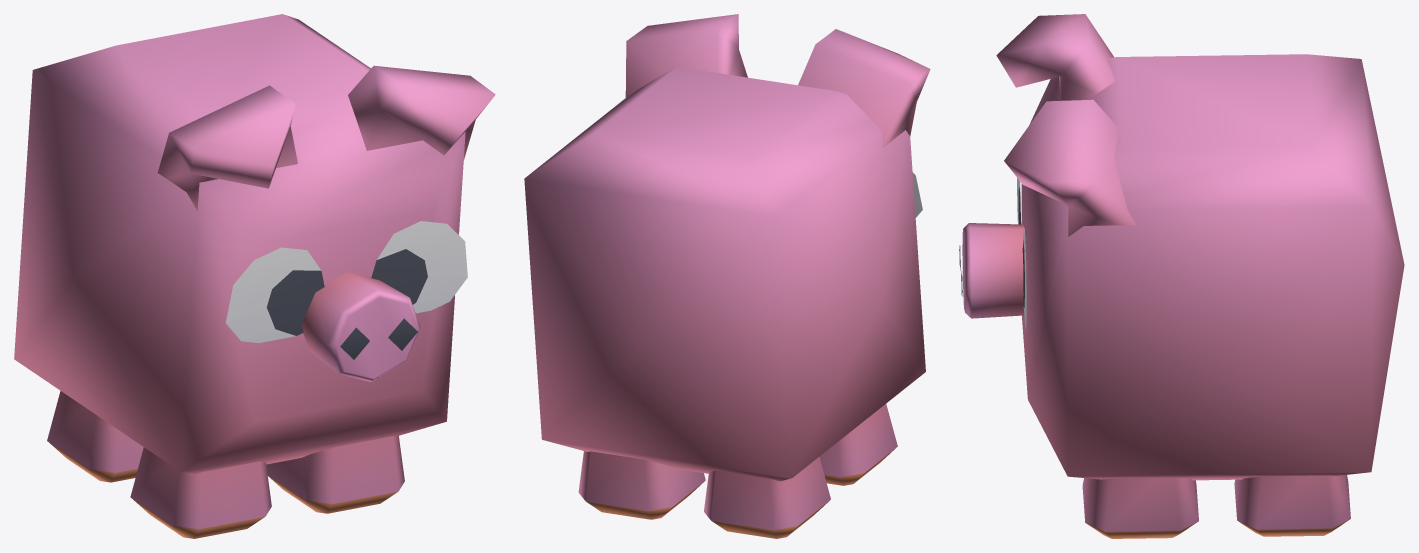
Rendered from Pig01.glb.
3 renders of one model, left to right at view 1: azimuth 30°, elevation 25°; view 2: azimuth 150°, elevation 25°; view 3: azimuth 270°, elevation 25°, orthographic. The views are drawn at different scales.
Parts seen in each view (by area): view 1: Pig; view 2: Pig; view 3: Pig.
Boxes of the visible parts, left/top/right/bottom form: Pig: left=14, top=14, right=495, bottom=538; Pig: left=524, top=14, right=930, bottom=538; Pig: left=959, top=14, right=1404, bottom=538.
Size of the model in its own units: 1.25 by 1.59 by 1.46.
Materials: 1 (1 with a texture image).
